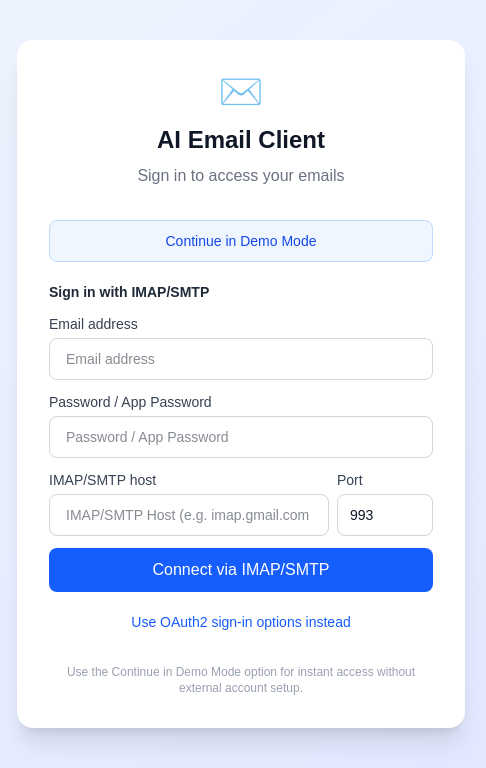
LoginPage › shows an inline error when IMAP credentials sign-in fails
The image size is (486, 768).
Type "person@example.com" into the field labelled "Email address".
click(241, 359); type("person@example.com")  # box [49,338,433,380]
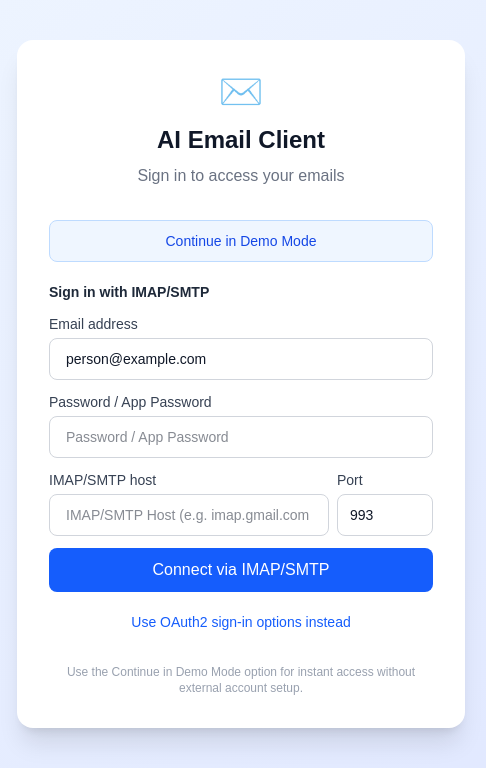
Type "not-the-right-password" into the password field labelled "Password / App Password".
click(241, 437); type("not-the-right-password")  # box [49,416,433,458]
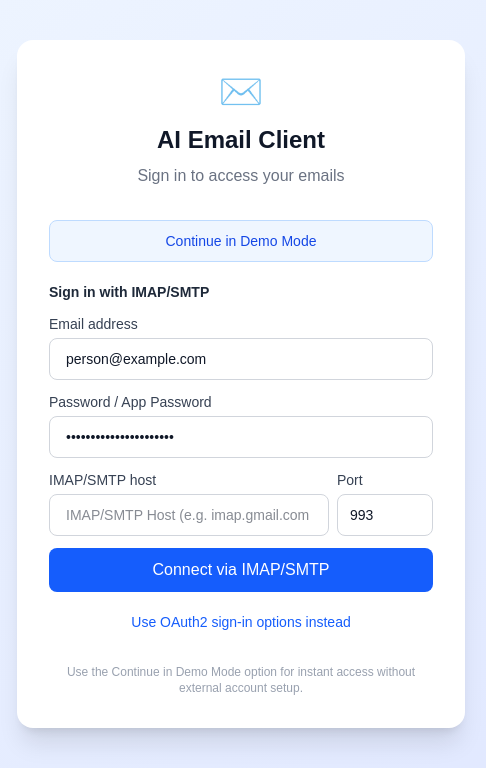
Type "imap.example.com" into the field labelled "IMAP/SMTP host".
click(189, 515); type("imap.example.com")  # box [49,494,329,536]
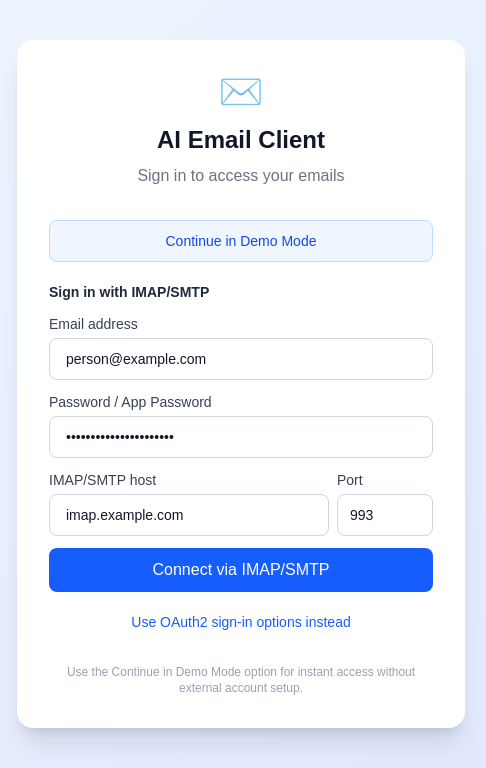
Click the button "Connect via IMAP/SMTP".
click(241, 570)  # box [49,548,433,592]
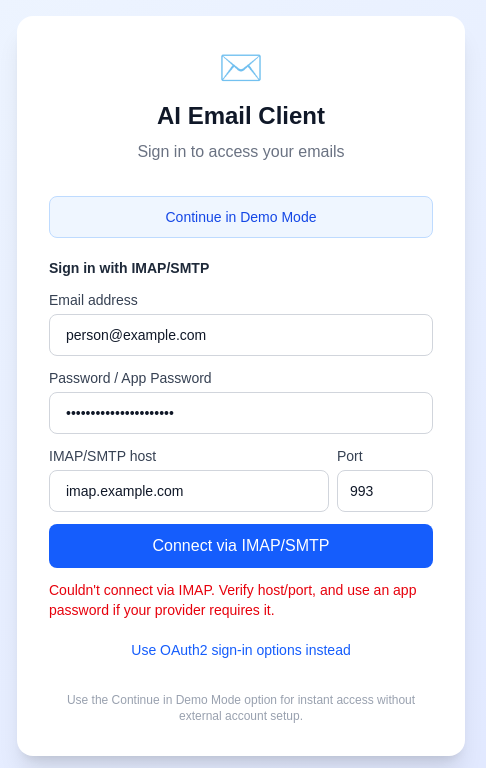
expect the message shows "Couldn't connect via IMAP": met, box [49,582,416,618]
